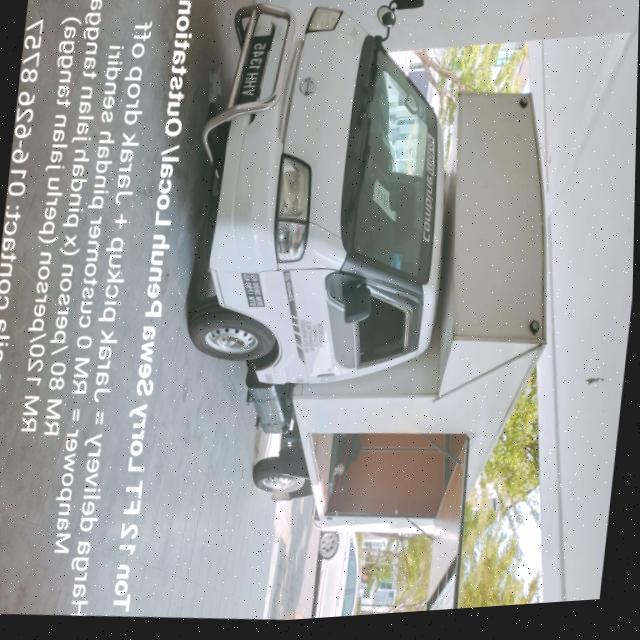truck: (164, 0, 588, 559)
